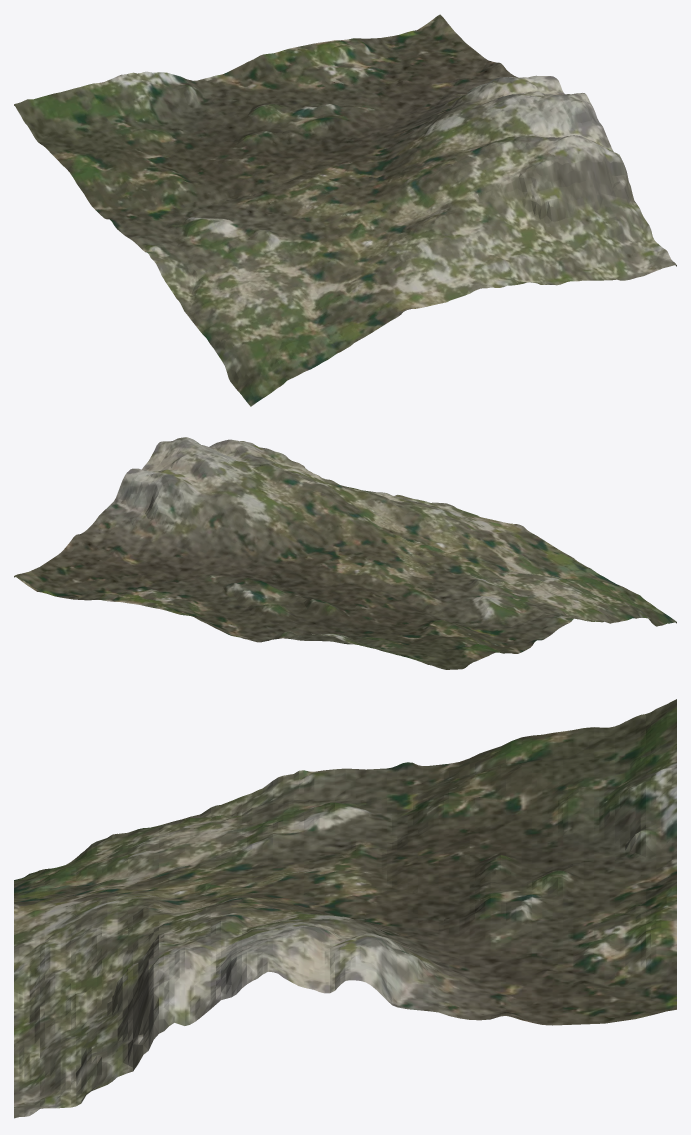
The picture shows the model from 3 angles, top to bottom: view 1: azimuth 30°, elevation 25°; view 2: azimuth 150°, elevation 25°; view 3: azimuth 270°, elevation 25°; orthographic projection. The views are drawn at different scales.
Bounding box in the file's own units: 250 × 83.27 × 241.
Materials: 1 (1 with a texture image).
